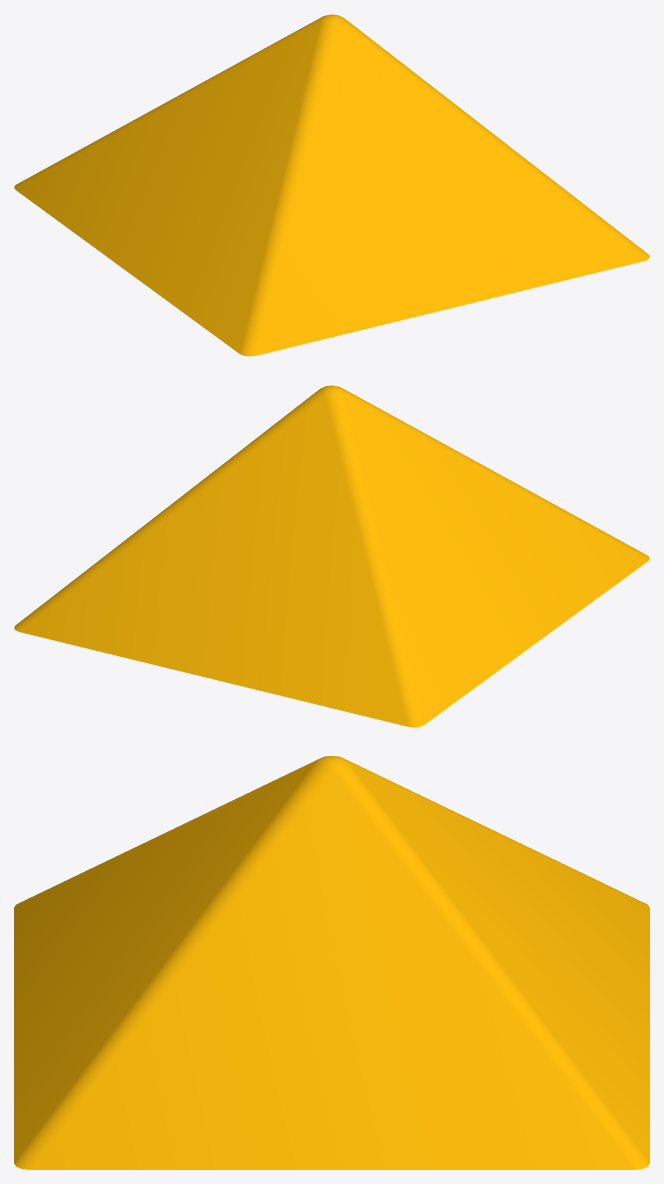
File: Pyramid_Half.fbx
The picture shows the model from 3 angles, top to bottom: view 1: azimuth 30°, elevation 25°; view 2: azimuth 150°, elevation 25°; view 3: azimuth 270°, elevation 25°; orthographic projection. The views are drawn at different scales.
Visible parts, largest first — view 1: Pyramid_Half; view 2: Pyramid_Half; view 3: Pyramid_Half.
Part boxes in pixels (left/top/right/bottom): Pyramid_Half: left=14, top=14, right=649, bottom=356; Pyramid_Half: left=14, top=385, right=649, bottom=727; Pyramid_Half: left=14, top=756, right=649, bottom=1169.
Bounding box in the file's own units: 1 × 0.4801 × 1.
